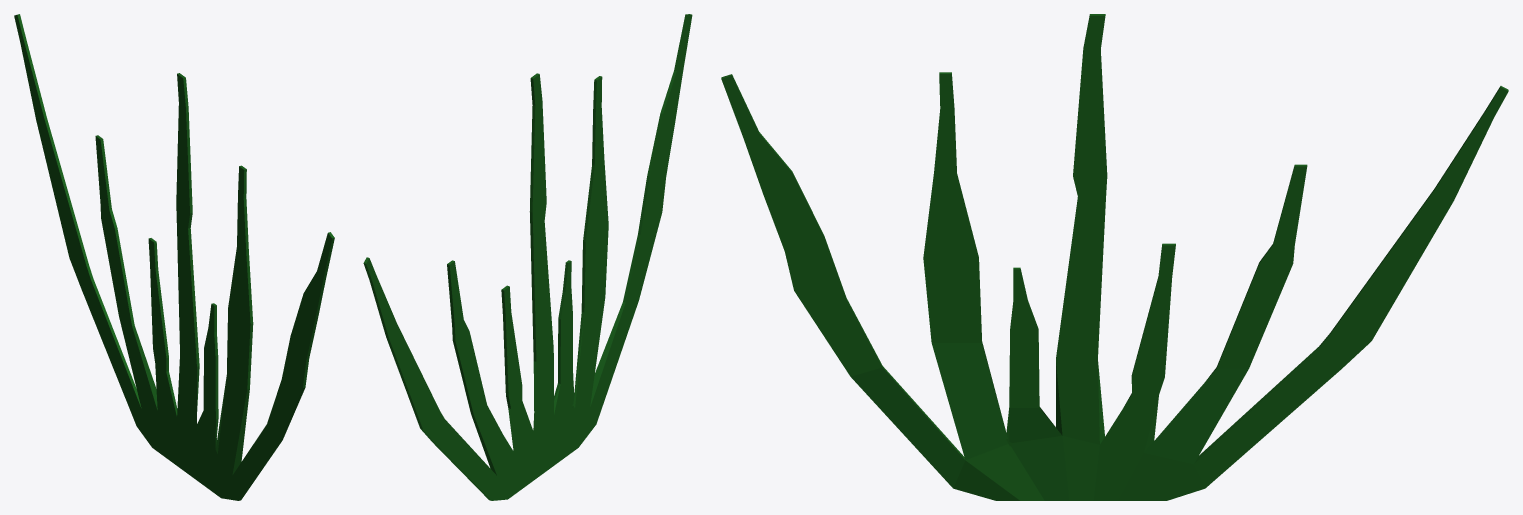
Rendered from SeaWeed1.glb.
3 views of the same model, side by side, from view 1: azimuth 30°, elevation 25°; view 2: azimuth 150°, elevation 25°; view 3: azimuth 270°, elevation 25° (orthographic). The views are drawn at different scales.
Visible parts, largest first — view 1: SeaWeed1; view 2: SeaWeed1; view 3: SeaWeed1.
Boxes of the visible parts, x1,y1,x2,y2 form: SeaWeed1: (14,14,334,500); SeaWeed1: (363,14,692,500); SeaWeed1: (721,14,1508,500).
Bounding box in the file's own units: 0.0041 × 0.2168 × 0.3187.
